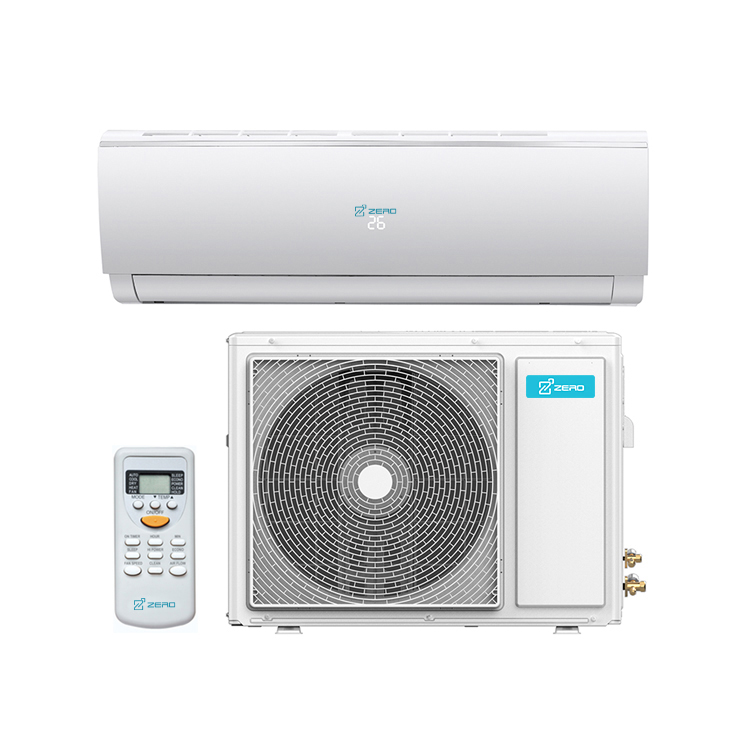ac: (89, 126, 664, 325)
